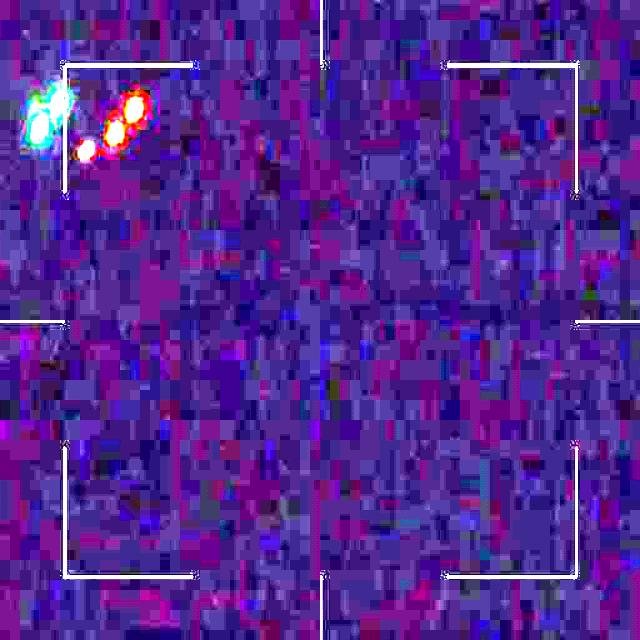bird: (26, 90, 145, 170)
